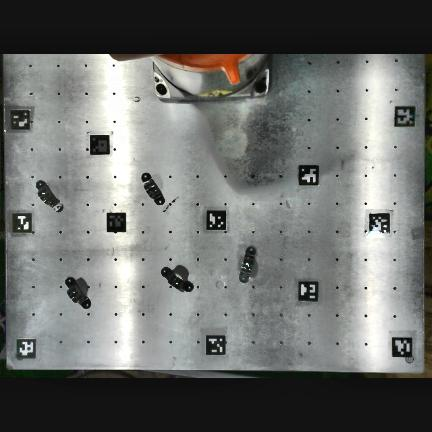clamp: (35, 180, 62, 210), (65, 277, 90, 308), (161, 267, 192, 290), (141, 172, 163, 204), (238, 246, 254, 281)
marker: (394, 107, 415, 128), (12, 213, 32, 234), (370, 214, 390, 234), (299, 166, 319, 186), (298, 282, 318, 302), (206, 337, 226, 357), (10, 111, 29, 132), (207, 210, 226, 231), (392, 338, 412, 357), (17, 339, 36, 359), (107, 213, 126, 232), (90, 136, 109, 154)
